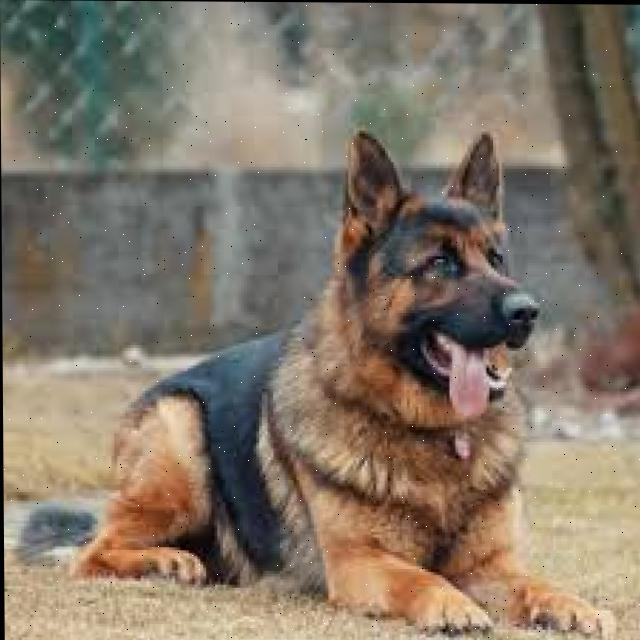GERMAN_SHEPHERD: (1, 113, 620, 640)
